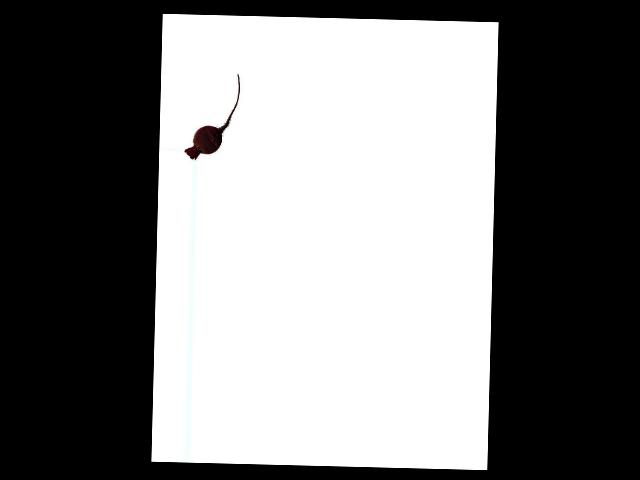beet: (184, 72, 240, 160)
